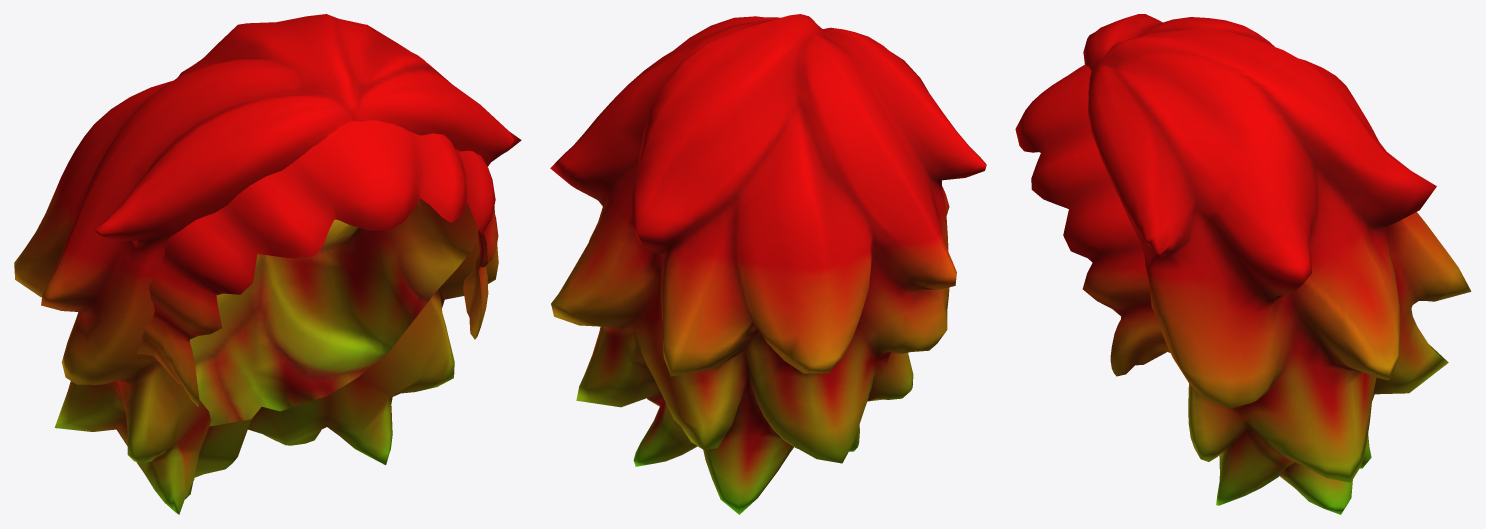
File: HairBack_BedHead.obj
3 views of the same model, side by side, from view 1: azimuth 30°, elevation 25°; view 2: azimuth 150°, elevation 25°; view 3: azimuth 270°, elevation 25° (orthographic). The views are drawn at different scales.
Parts seen in each view (by area): view 1: HairBack_BedHead_0; view 2: HairBack_BedHead_0; view 3: HairBack_BedHead_0.
Boxes of the visible parts, x1,y1,x2,y2 form: HairBack_BedHead_0: (14, 14, 521, 514); HairBack_BedHead_0: (550, 14, 986, 514); HairBack_BedHead_0: (1015, 14, 1471, 514).
Bounding box in the file's own units: 0.2579 × 0.2742 × 0.2473.
Materials: 1 (1 with a texture image).
